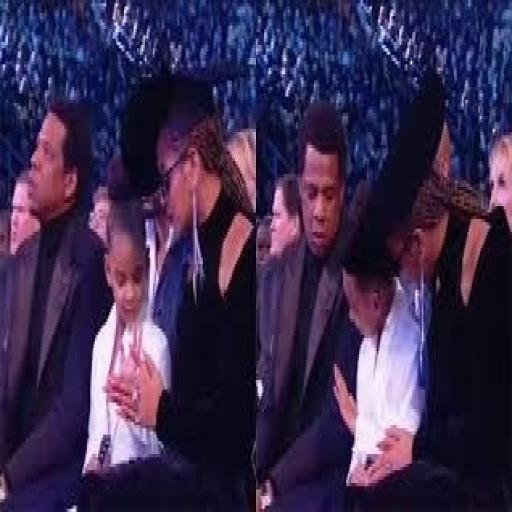clapping: (85, 36, 262, 509)
